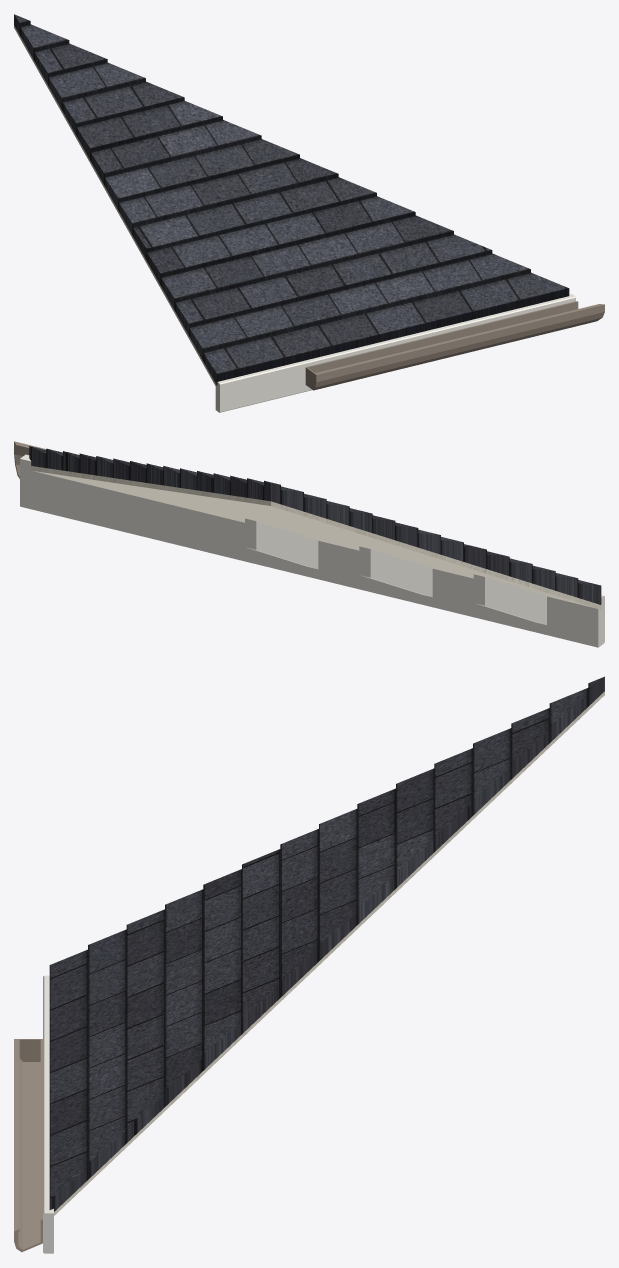
File: roof_main_6_porch.glb
3 renders of one model, top to bottom at view 1: azimuth 30°, elevation 25°; view 2: azimuth 150°, elevation 25°; view 3: azimuth 270°, elevation 25°, orthographic. The views are drawn at different scales.
Parts seen in each view (by area): view 1: roof_main_6_porch_shingles, roof_main_6_porch_gutter, roof_main_6_porch_trim, roof_main_6_porch_plaster; view 2: roof_main_6_porch_trim, roof_main_6_porch_shingles, roof_main_6_porch_plaster, roof_main_6_porch_gutter; view 3: roof_main_6_porch_shingles, roof_main_6_porch_gutter, roof_main_6_porch_plaster, roof_main_6_porch_trim.
Boxes of the visible parts, x1,y1,x2,y2 form: roof_main_6_porch_shingles: (14,14,569,385); roof_main_6_porch_gutter: (305,301,604,390); roof_main_6_porch_trim: (215,294,575,412); roof_main_6_porch_plaster: (14,25,217,388); roof_main_6_porch_trim: (20,454,604,647); roof_main_6_porch_shingles: (29,446,601,604); roof_main_6_porch_plaster: (31,466,601,609); roof_main_6_porch_gutter: (14,441,46,478); roof_main_6_porch_shingles: (49,676,604,1211); roof_main_6_porch_gutter: (14,1039,42,1252); roof_main_6_porch_plaster: (54,691,604,1215); roof_main_6_porch_trim: (43,975,53,1253).
Bounding box in the file's own units: 2.66 × 1.69 × 2.66.
4 materials, 2 textured.
